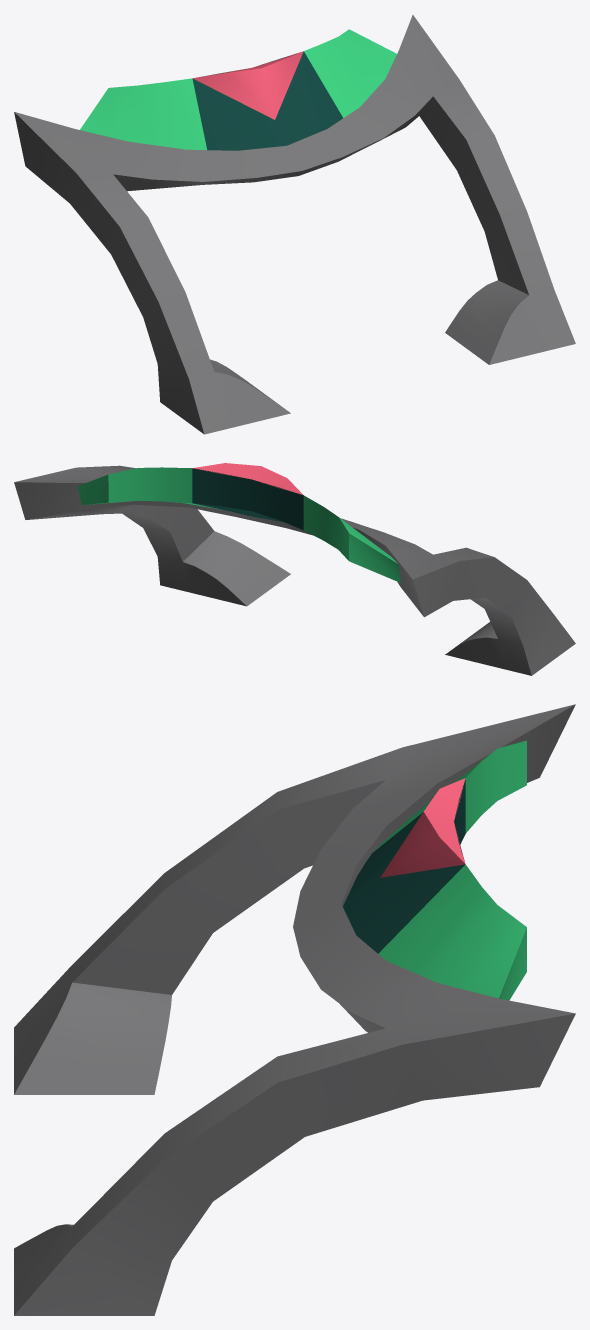
File: MuscleSpoiler02R03.gltf
3 renders of one model, top to bottom at view 1: azimuth 30°, elevation 25°; view 2: azimuth 150°, elevation 25°; view 3: azimuth 270°, elevation 25°, orthographic. The views are drawn at different scales.
Parts seen in each view (by area): view 1: MuscleSpoiler02R03; view 2: MuscleSpoiler02R03; view 3: MuscleSpoiler02R03.
Boxes of the visible parts, x1,y1,x2,y2 form: MuscleSpoiler02R03: (14, 14, 575, 434); MuscleSpoiler02R03: (14, 463, 575, 675); MuscleSpoiler02R03: (14, 704, 575, 1315).
Size of the model in its own units: 0.128 by 0.0694 by 0.0982.
